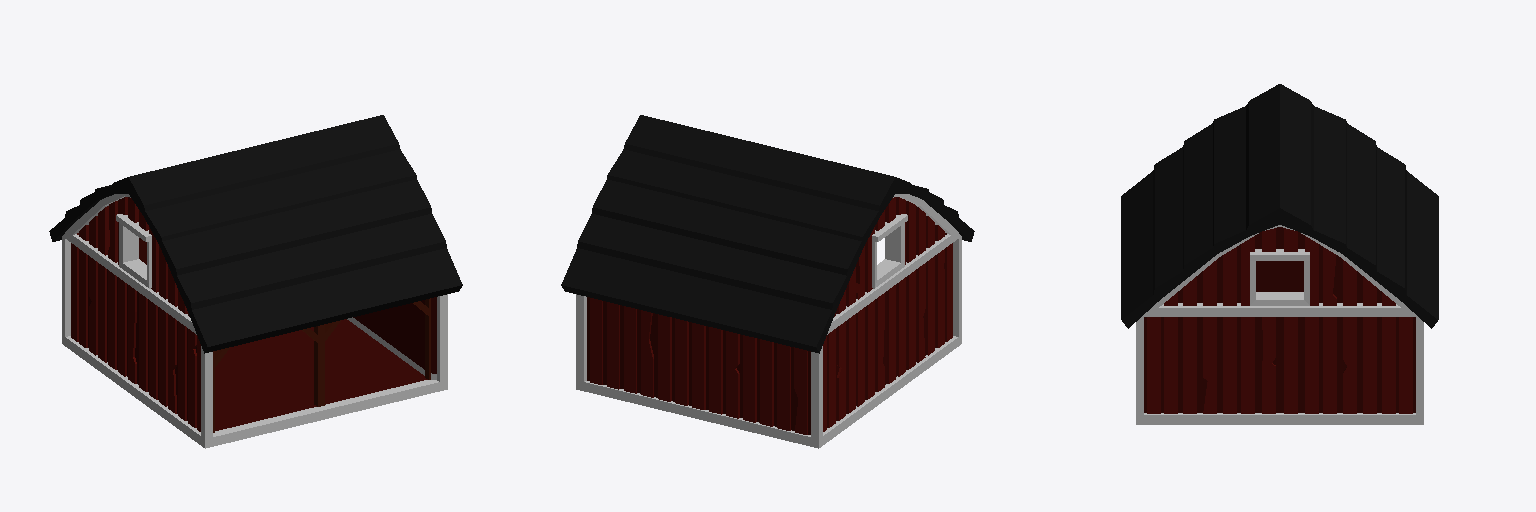
The model's file is OpenBarn.obj.
3 views of the same model, side by side, from view 1: azimuth 30°, elevation 25°; view 2: azimuth 150°, elevation 25°; view 3: azimuth 270°, elevation 25° (orthographic).
Parts seen in each view (by area): view 1: OpenBarn; view 2: OpenBarn; view 3: OpenBarn.
Boxes of the visible parts, box(x1,y1,x2,y2) form: OpenBarn: box(49, 115, 462, 448); OpenBarn: box(561, 115, 974, 448); OpenBarn: box(1121, 84, 1438, 424).
Size of the model in its own units: 5.74 by 4.74 by 6.18.